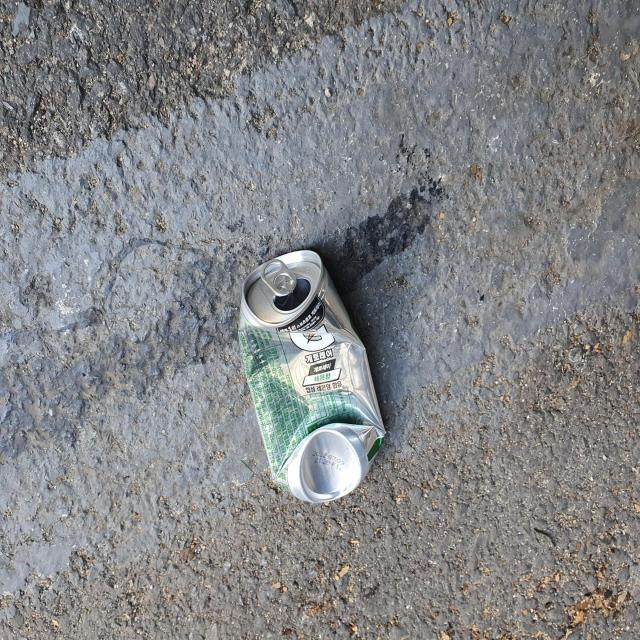can: (238, 250, 385, 504)
